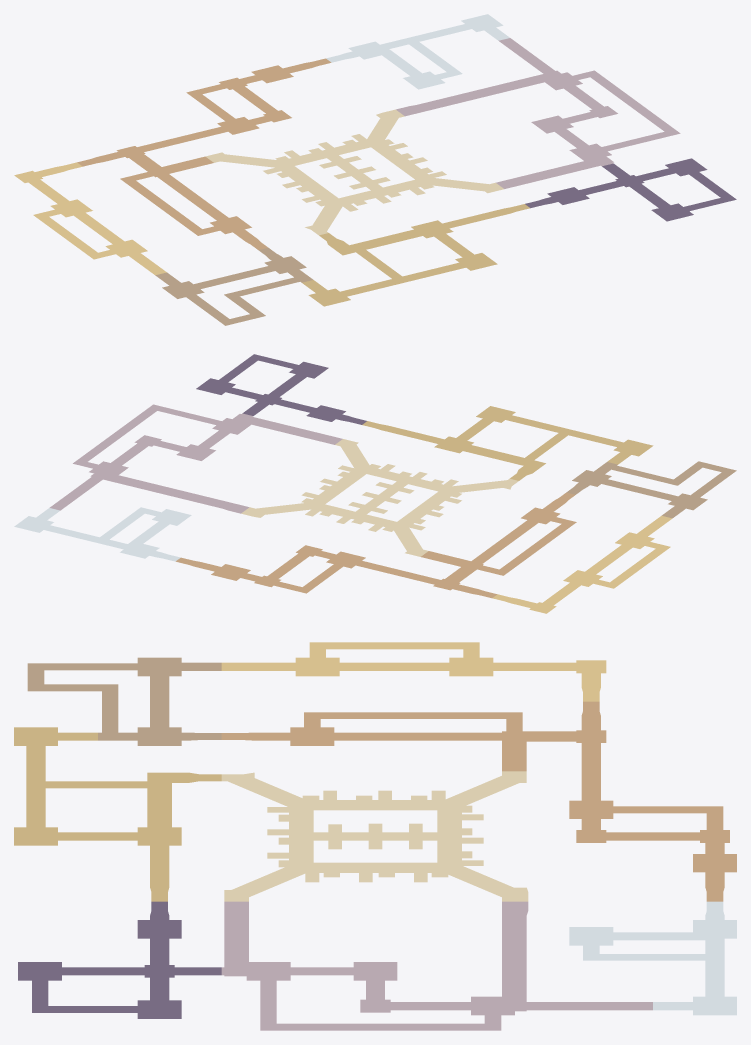
Rendered from CompactRoadsCanonical.glb.
3 views of the same model, one above another, from view 1: azimuth 30°, elevation 25°; view 2: azimuth 150°, elevation 25°; view 3: azimuth 270°, elevation 25° (orthographic). The views are drawn at different scales.
Parts seen in each view (by area): view 1: Path_Camp_1_1, Path_Jungle_1_2, Path_Swamp_0_2, Path_Forest_1_0, Path_Arctic_2_0, Path_GlitchZone_2_2, Path_Beach_0_1, Path_Forest_0_0, Path_Forest_0_1, Path_Volcano_3_1, Path_Volcano_2_1, Path_Volcano_3_0 (+7 smaller); view 2: Path_Camp_1_1, Path_Jungle_1_2, Path_Swamp_0_2, Path_Forest_1_0, Path_Arctic_2_0, Path_GlitchZone_2_2, Path_Beach_0_1, Path_Forest_0_0, Path_Forest_0_1, Path_Volcano_3_1, Path_Volcano_2_1, Path_Volcano_3_0 (+7 smaller); view 3: Path_Camp_1_1, Path_Jungle_1_2, Path_Swamp_0_2, Path_Forest_1_0, Path_Arctic_2_0, Path_GlitchZone_2_2, Path_Beach_0_1, Path_Forest_0_1, Path_Forest_0_0, Path_Volcano_3_1, Path_Volcano_2_1, Path_Volcano_3_0 (+10 smaller).
Part boxes in pixels (<box>): Path_Camp_1_1: <box>245,135,438,229</box>; Path_Jungle_1_2: <box>319,215,497,287</box>; Path_Swamp_0_2: <box>155,247,313,325</box>; Path_Forest_1_0: <box>179,66,291,141</box>; Path_Arctic_2_0: <box>326,25,464,89</box>; Path_GlitchZone_2_2: <box>525,163,705,221</box>; Path_Beach_0_1: <box>34,203,158,269</box>; Path_Forest_0_0: <box>77,137,213,190</box>; Path_Forest_0_1: <box>136,180,259,243</box>; Path_Volcano_3_1: <box>554,77,680,147</box>; Path_Volcano_2_1: <box>496,114,623,183</box>; Path_Volcano_3_0: <box>498,38,602,88</box>; Path_Camp_1_1: <box>303,463,511,539</box>; Path_Jungle_1_2: <box>405,406,587,480</box>; Path_Swamp_0_2: <box>566,461,736,518</box>; Path_Forest_1_0: <box>214,545,401,593</box>; Path_Arctic_2_0: <box>50,507,191,561</box>; Path_GlitchZone_2_2: <box>237,361,366,424</box>; Path_Beach_0_1: <box>569,521,670,587</box>; Path_Forest_0_0: <box>396,551,518,598</box>; Path_Forest_0_1: <box>480,498,576,564</box>; Path_Volcano_3_1: <box>81,404,205,468</box>; Path_Volcano_2_1: <box>164,417,335,460</box>; Path_Volcano_3_0: <box>49,457,126,510</box>; Path_Camp_1_1: <box>244,772,476,869</box>; Path_Jungle_1_2: <box>14,771,221,869</box>; Path_Swamp_0_2: <box>27,657,221,745</box>; Path_Forest_1_0: <box>569,771,736,869</box>; Path_Arctic_2_0: <box>569,901,736,992</box>; Path_GlitchZone_2_2: <box>18,901,221,992</box>; Path_Beach_0_1: <box>244,642,476,676</box>; Path_Forest_0_1: <box>244,712,476,745</box>; Path_Forest_0_0: <box>477,701,606,771</box>; Path_Volcano_3_1: <box>260,992,476,1030</box>; Path_Volcano_2_1: <box>244,901,397,992</box>; Path_Volcano_3_0: <box>477,992,652,1030</box>.
Size of the model in its own units: 1336 by 0 by 1052.
